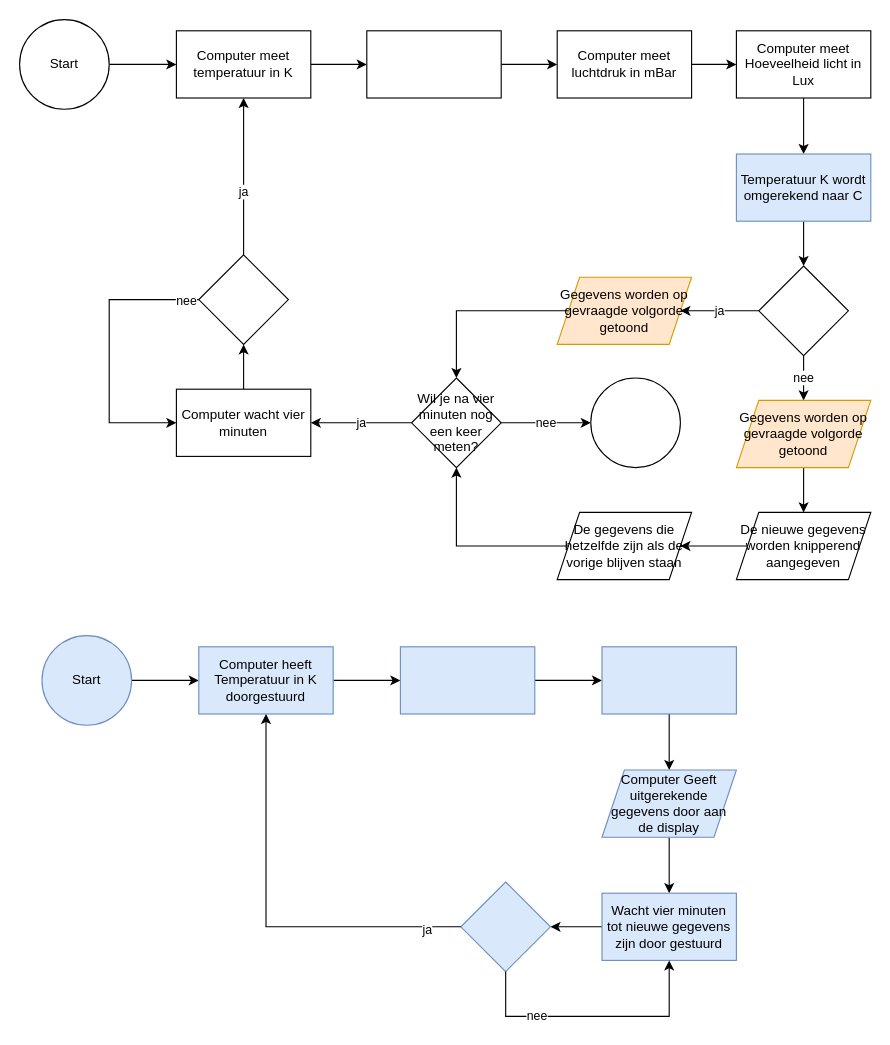
This 890x1045 diagram has some shape labels left out. The shapes that lost their labels are listed below. From the top down, each one's box as (x1, y1, x2, y2) in pixels, then its label:
(366, 30, 501, 98): Computer Meet luchtvochtigheid in %
(198, 254, 288, 344): Zijn de vier minuten voorbij?
(758, 265, 848, 356): Zijn alle gegevens hetzelfde als de vorige meting?
(590, 377, 680, 468): Stop
(399, 646, 535, 714): Computer berekent Gegevens Kelvin - 273 = Celsuis
(601, 646, 736, 714): Computer heeft gegevens berekend
(460, 881, 550, 972): Zijn de nieuwe gegevens door gestuurd
